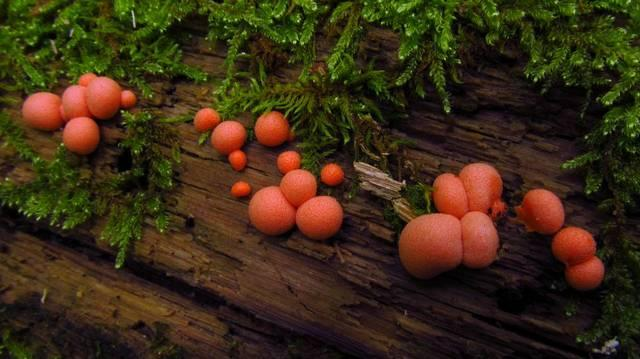Non-edible Mushroom: (182, 82, 349, 210), (397, 161, 506, 279), (20, 71, 137, 155), (397, 211, 463, 279), (247, 185, 295, 235), (460, 210, 500, 269), (516, 187, 565, 234), (295, 194, 344, 240), (551, 225, 596, 265), (20, 90, 62, 131), (85, 75, 121, 119), (61, 115, 100, 155)
